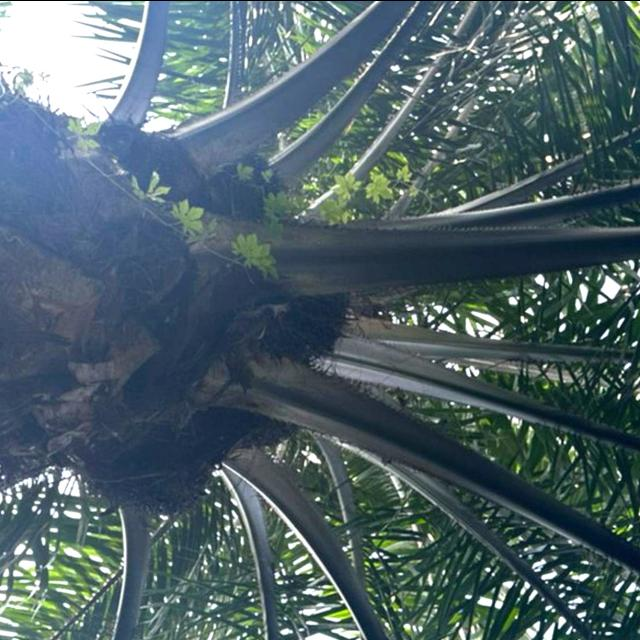almost: (99, 436, 222, 516), (254, 292, 358, 368)
